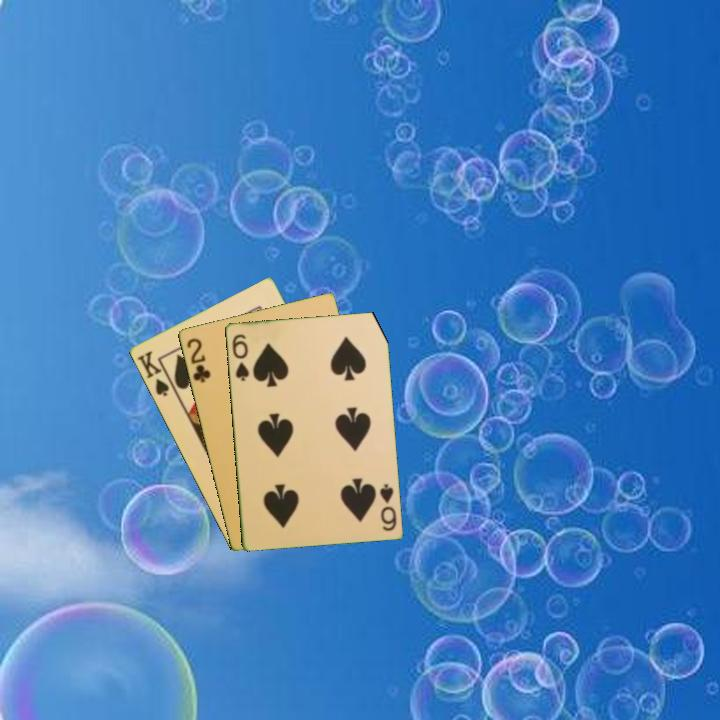2c: (183, 334, 213, 385)
6s: (228, 330, 252, 384), (376, 480, 399, 533)
Ks: (133, 347, 172, 400)
